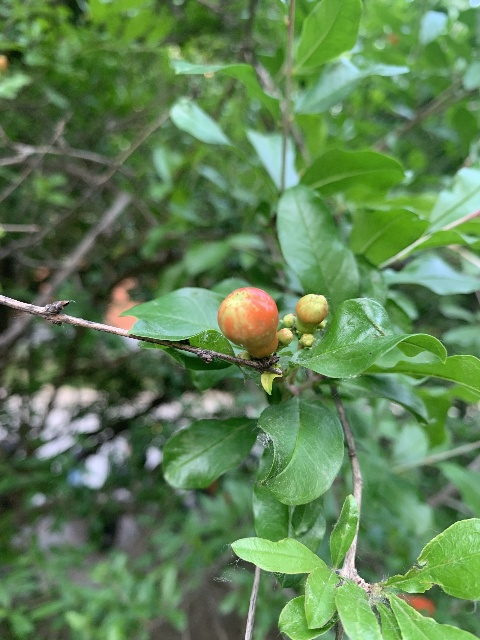bud: (218, 286, 279, 358), (296, 292, 328, 332), (277, 327, 292, 346)
